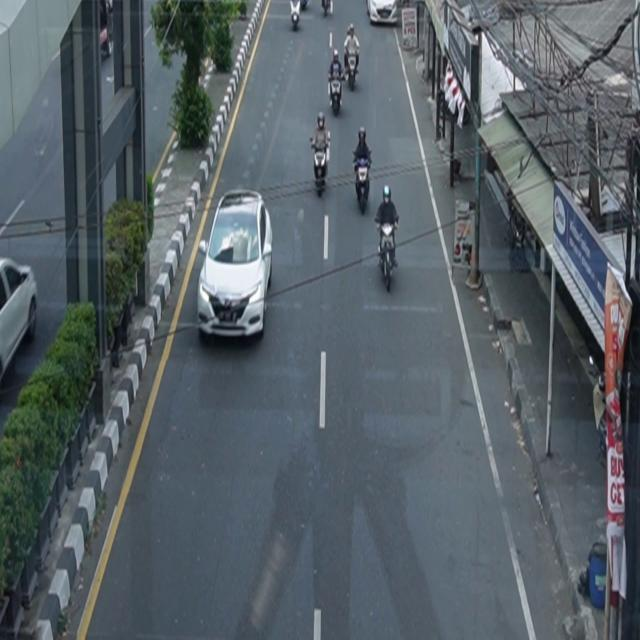car: (198, 189, 274, 341), (1, 257, 39, 388), (367, 1, 398, 26)
